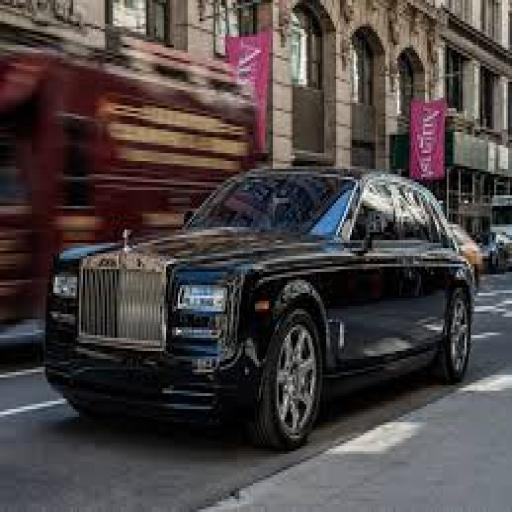car: (36, 156, 492, 458)
